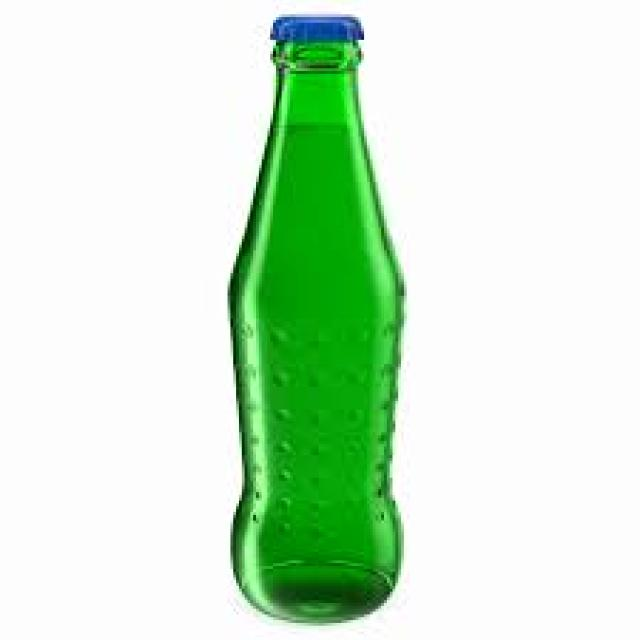Glass: (220, 9, 409, 628)
